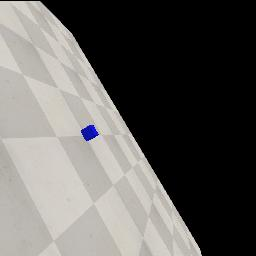box: (81, 125, 99, 141)
